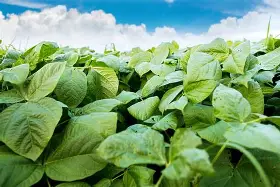crops: (1, 38, 276, 185)
